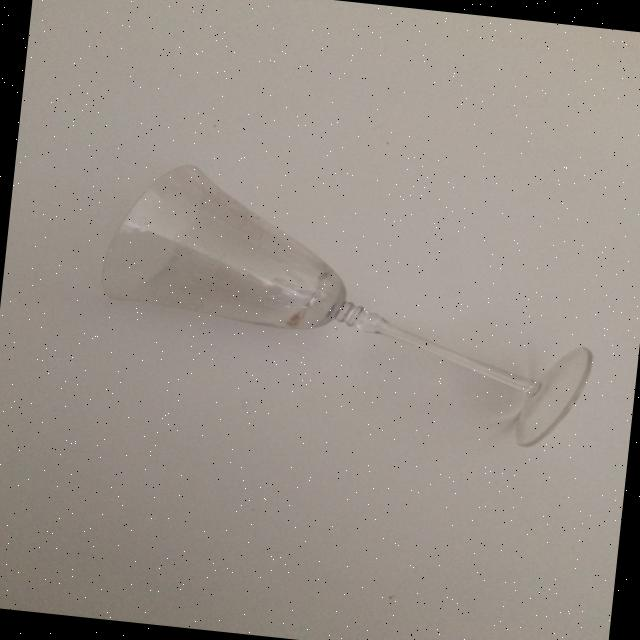glass: (87, 156, 609, 454)
